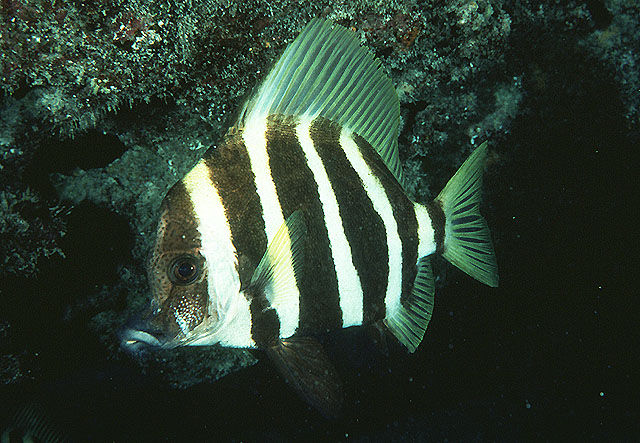fish: (119, 16, 501, 356)
